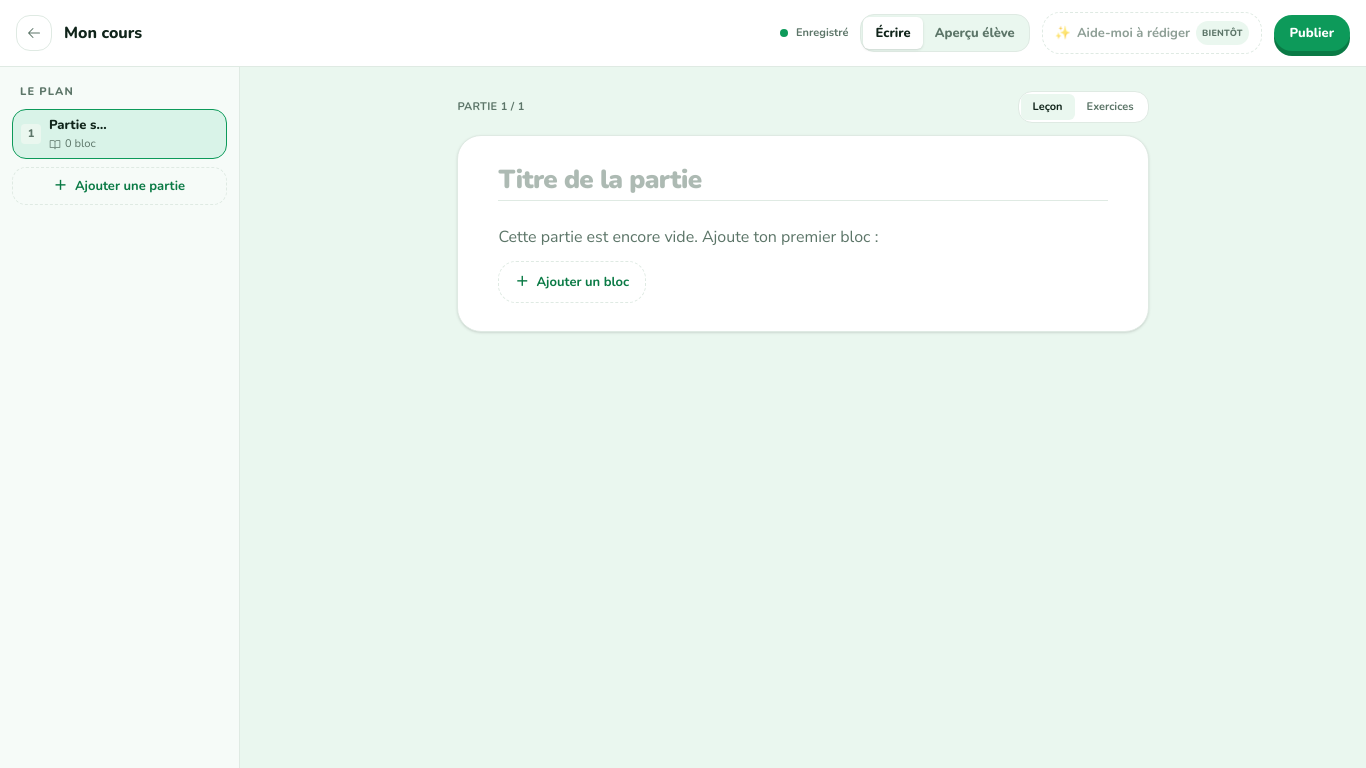
EditeurCours — ajout de bloc par « + » › ouvre le menu depuis un « + » et insère le bloc choisi à cet endroit
Check: the field named "Titre du cours" is shown, box [64, 21, 768, 45]
Step 1. Click the button with aria-label "Ajouter un bloc ici" → (572, 282), box [498, 261, 646, 303]
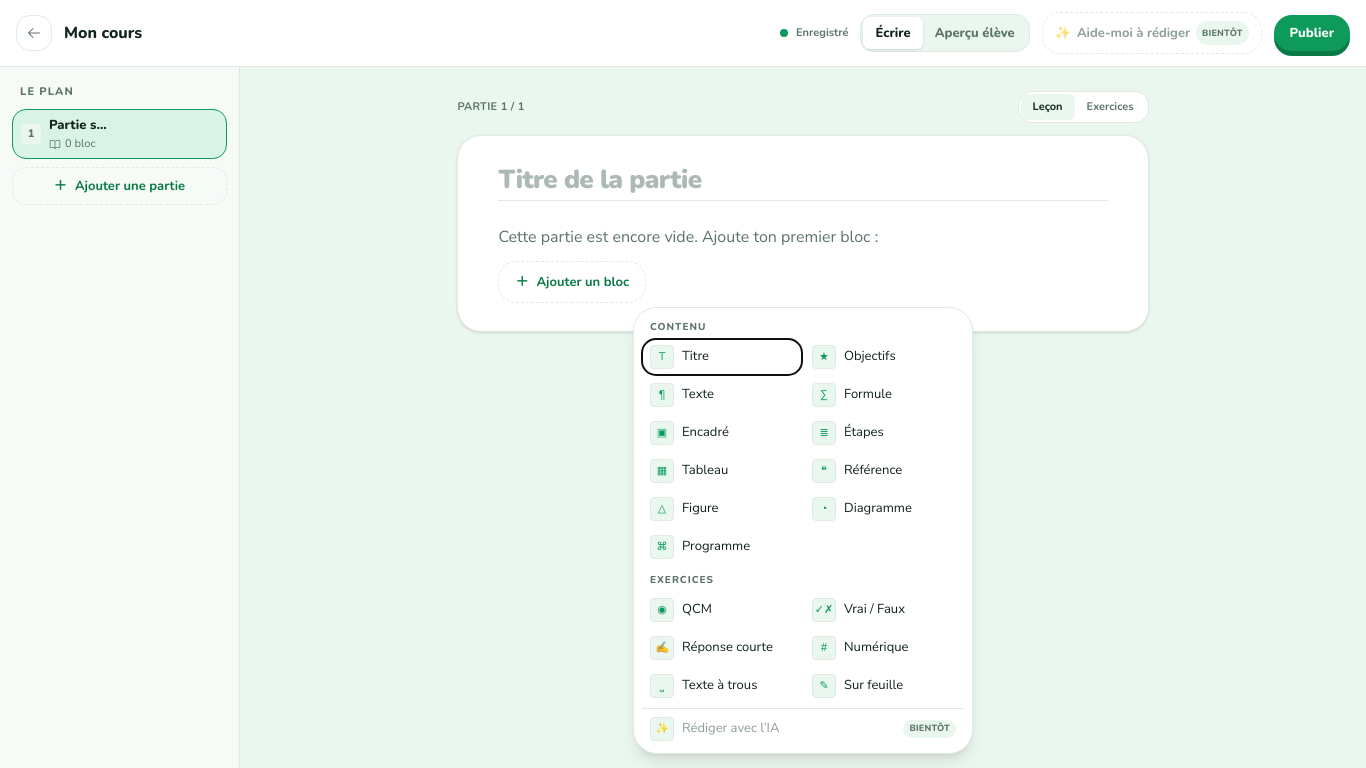
Check: the menu item "∑ Formule" is shown, box [804, 377, 964, 413]
Check: the menu item "◉ QCM" is shown, box [642, 592, 802, 628]
Step 2. Click the menu item "¶ Texte" → (722, 395), box [642, 377, 802, 413]
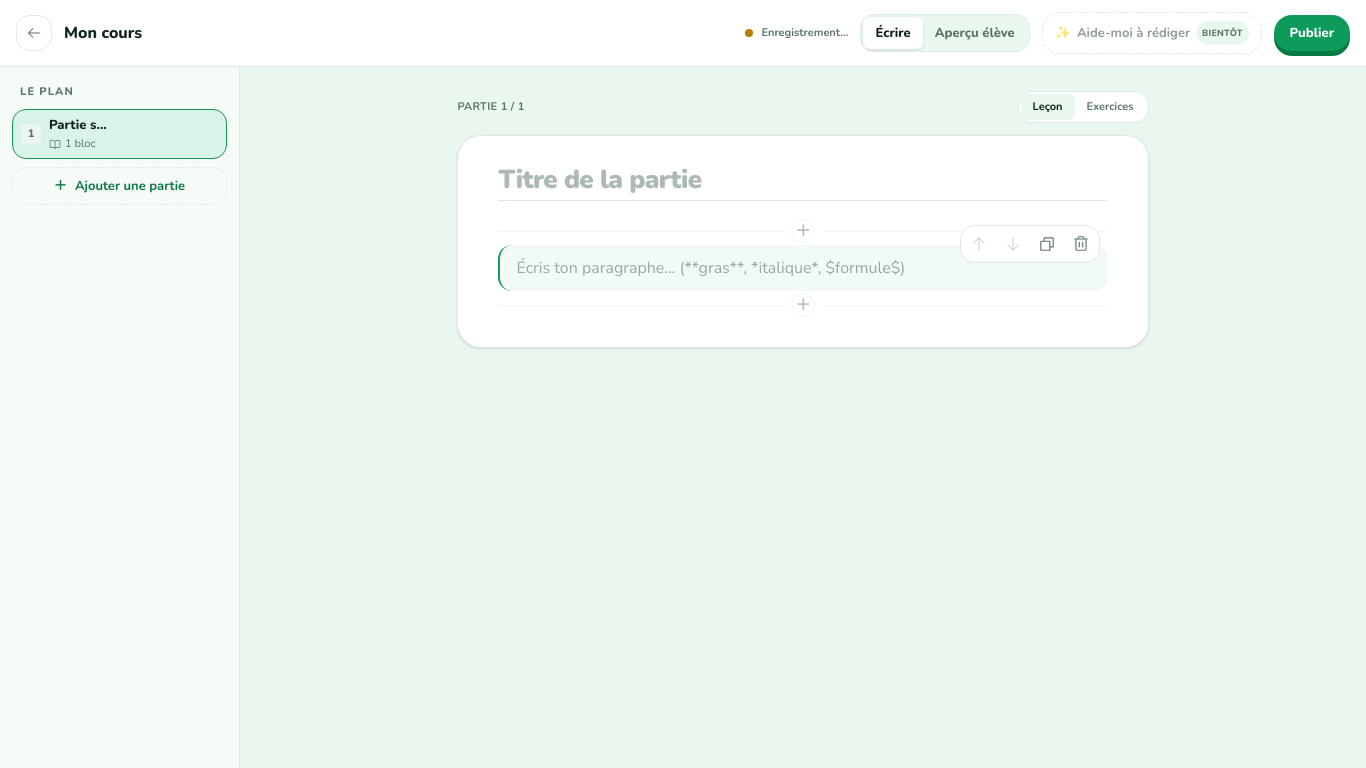
Check: the menu item "Texte" is gone
Check: the number of buttons named "Ajouter un bloc ici" is 2, box [791, 219, 815, 243]; [791, 293, 815, 317]
